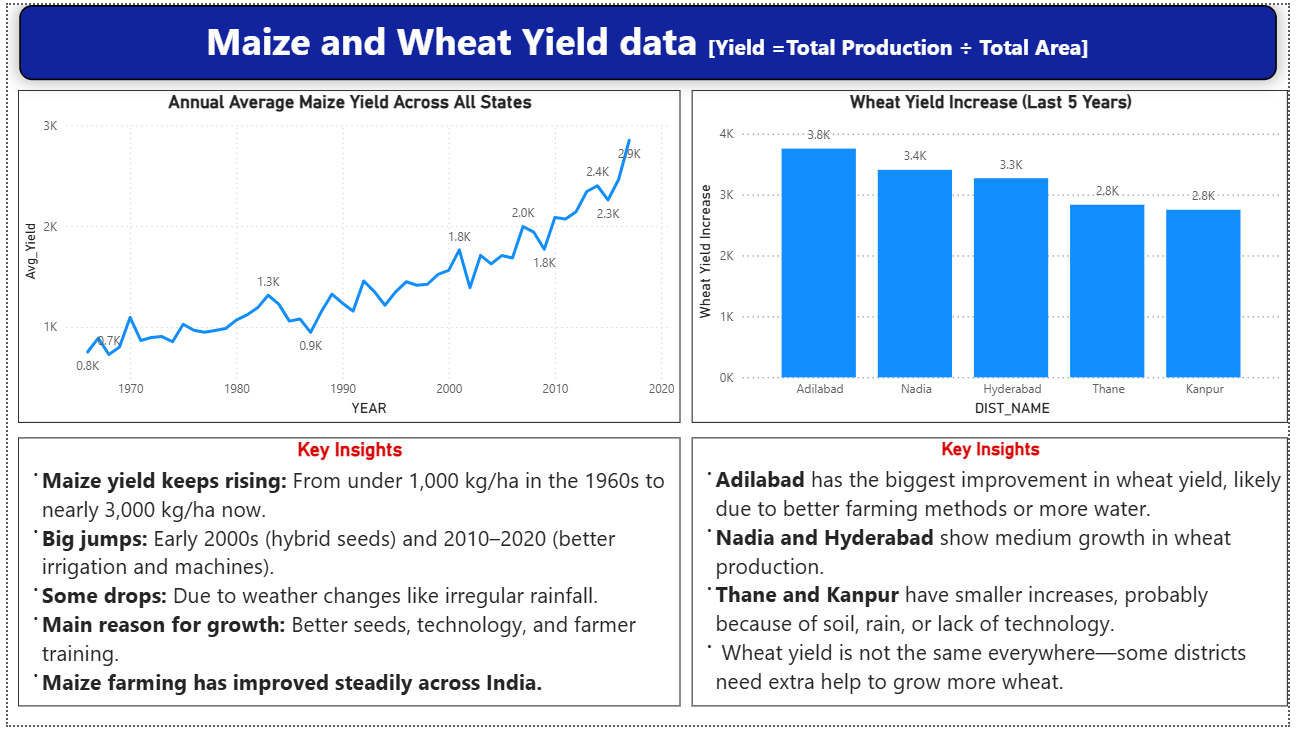

The dashboard page shown, as its layout file describes it:
{"tool":"powerbi","page":{"name":"Dashboard-3","canvas":[1280,720],"ordinal":2},"visuals":[{"type":"lineChart","title":"Annual Average Maize Yield Across All States","fields":{"Y":["Sum(Annual Average Maize Yield Across All States.avg_yield)"],"Category":["Annual Average Maize Yield Across All States.YEAR"]},"box":[10,85,662.5,332.5],"z":0},{"type":"textbox","title":"Key Insights","box":[10,432.5,662.5,268.8],"z":1000},{"type":"columnChart","title":"Wheat Yield Increase (Last 5 Years)","fields":{"Category":["Wheat Yield Increase.DIST_NAME"],"Y":["Sum(Wheat Yield Increase.yield_increase)"]},"box":[683.8,85,596.2,332.5],"z":2000},{"type":"textbox","title":"Key Insights","box":[683.8,432.5,596.2,268.8],"z":3000},{"type":"textbox","box":[11.2,0,1257.5,75],"z":4000}]}

Visuals, with their boxes in screenshot pixels (x1, y1, x2, y2), scaled from the page's 1280x720 canvas onto the 1296x730 screenshot:
"Annual Average Maize Yield Across All States" lineChart: [10, 86, 681, 423]
"Key Insights" textbox: [10, 439, 681, 711]
"Wheat Yield Increase (Last 5 Years)" columnChart: [692, 86, 1295, 423]
"Key Insights" textbox: [692, 439, 1295, 711]
textbox: [11, 0, 1285, 76]
